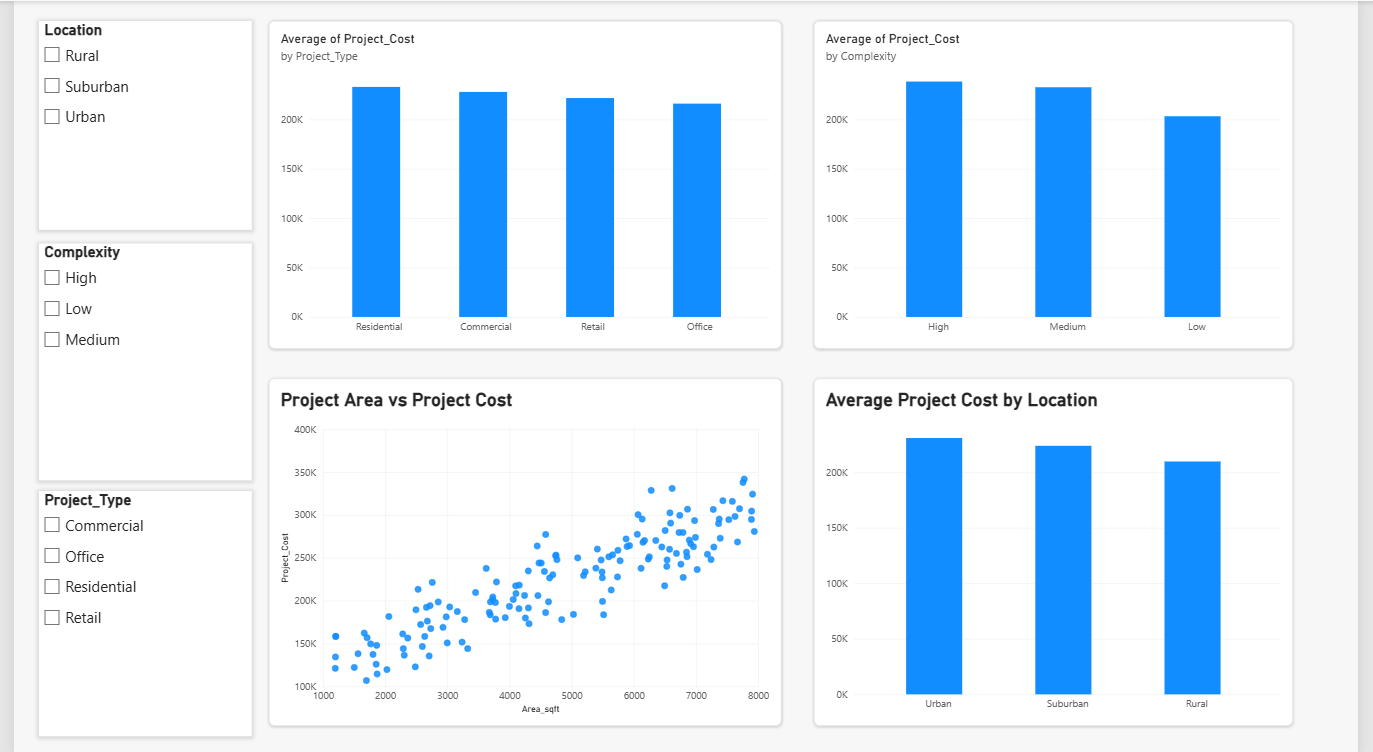

Layout of this report page (visuals, bound fields, positions):
{"tool":"powerbi","page":{"name":"Page 2","canvas":[1920,1080],"ordinal":1},"visuals":[{"type":"scatterChart","title":"Project Area vs Project Cost","fields":{"X":["architecture_projects.Area_sqft"],"Y":["architecture_projects.Project_Cost"]},"box":[364,540,732,496],"z":0},{"type":"clusteredColumnChart","fields":{"Category":["architecture_projects.Project_Type"],"Y":["Avg(architecture_projects.Project_Cost)"]},"box":[364,28,732,468],"z":1000},{"type":"clusteredColumnChart","fields":{"Category":["architecture_projects.Complexity"],"Y":["Avg(architecture_projects.Project_Cost)"]},"box":[1142,28,684,468],"z":2000},{"type":"clusteredColumnChart","title":"Average Project Cost by Location","fields":{"Category":["architecture_projects.Location"],"Y":["Avg(architecture_projects.Project_Cost)"]},"box":[1142,540,684,496],"z":3000},{"type":"slicer","fields":{"Values":["architecture_projects.Project_Type"]},"box":[36,700,304,350],"z":4000},{"type":"slicer","fields":{"Values":["architecture_projects.Complexity"]},"box":[36,346,304,338],"z":5000},{"type":"slicer","fields":{"Values":["architecture_projects.Location"]},"box":[36,28,304,298],"z":6000}]}

Visuals, with their boxes in screenshot pixels (x1, y1, x2, y2), scaled from the page's 1920x1080 canvas onto the 1373x752 screenshot:
"Project Area vs Project Cost" scatterChart: (260, 376, 784, 721)
clusteredColumnChart - architecture_projects.Project_Type x Avg(architecture_projects.Project_Cost): (260, 19, 784, 345)
clusteredColumnChart - architecture_projects.Complexity x Avg(architecture_projects.Project_Cost): (817, 19, 1306, 345)
"Average Project Cost by Location" clusteredColumnChart: (817, 376, 1306, 721)
slicer - architecture_projects.Project_Type: (26, 487, 243, 731)
slicer - architecture_projects.Complexity: (26, 241, 243, 476)
slicer - architecture_projects.Location: (26, 19, 243, 227)
